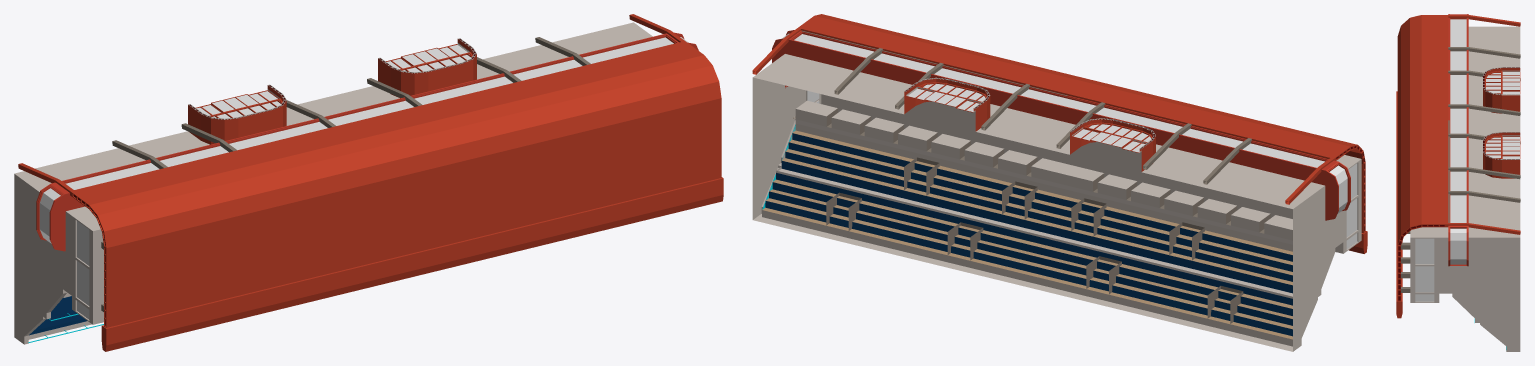
File: tribune.glb
3 views of the same model, side by side, from view 1: azimuth 30°, elevation 25°; view 2: azimuth 150°, elevation 25°; view 3: azimuth 270°, elevation 25° (orthographic). The views are drawn at different scales.
Parts seen in each view (by area): view 1: tribunes; view 2: tribunes; view 3: tribunes.
Boxes of the visible parts, x1,y1,x2,y2 form: tribunes: (14,14,723,351); tribunes: (752,14,1367,351); tribunes: (1396,14,1520,351).
Bounding box in the file's own units: 100 × 28 × 23.8.
2 materials, 1 textured.
